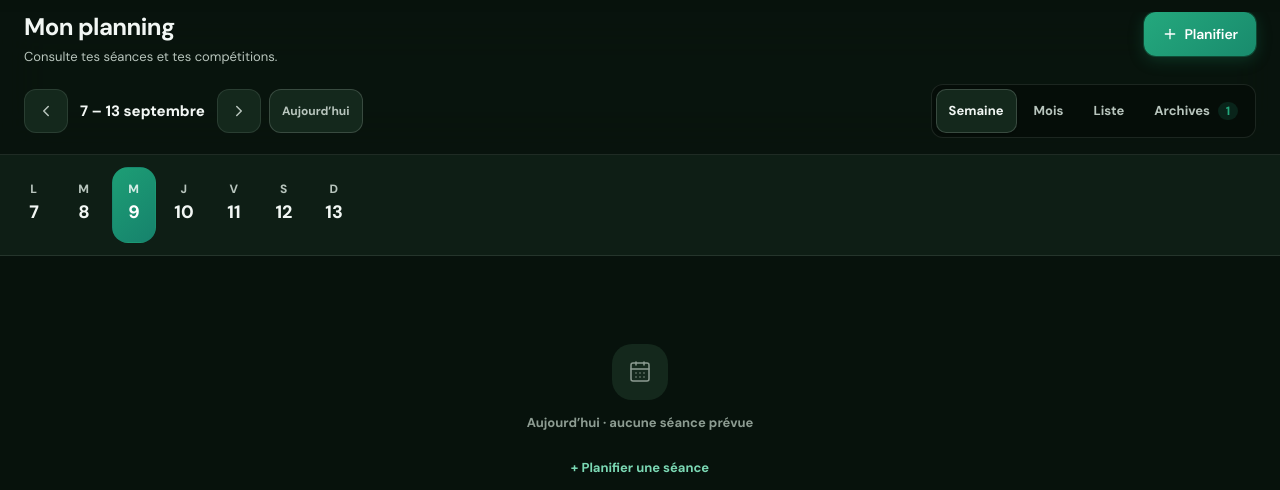
Scenario: AthletePlanning › utilise le sélecteur premium et affiche le compteur d'archives dans un badge
expect the text with class "aos-segmented-tabs__badge" reads "1": met, box [1226, 103, 1230, 119]
Click the radio button with aria-label "Archives, 1".
click(1196, 111)  # box [1141, 89, 1251, 133]
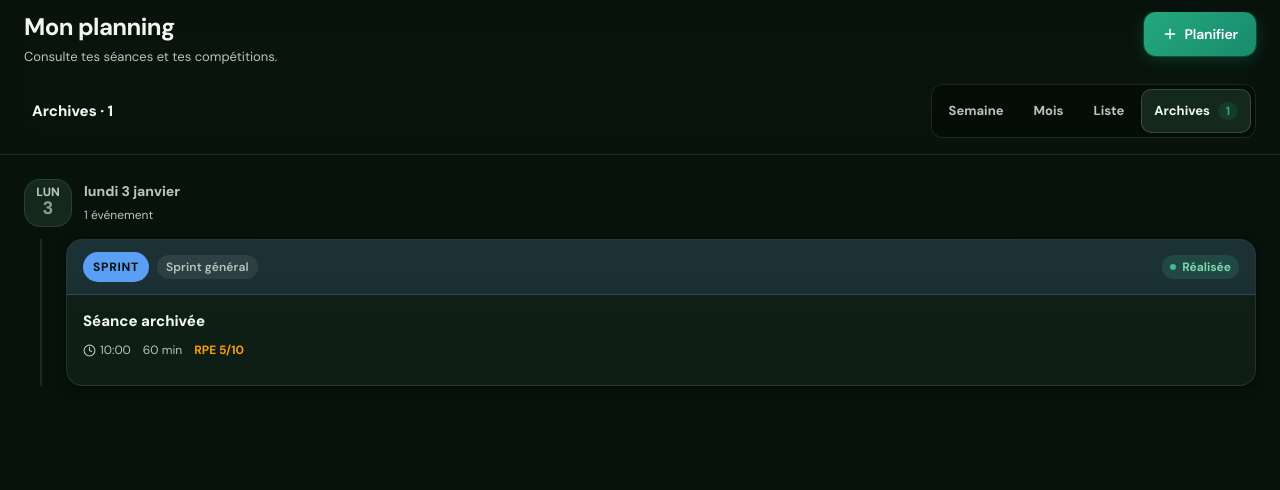
expect the text "Séance archivée" is shown: met, box [83, 311, 205, 331]
